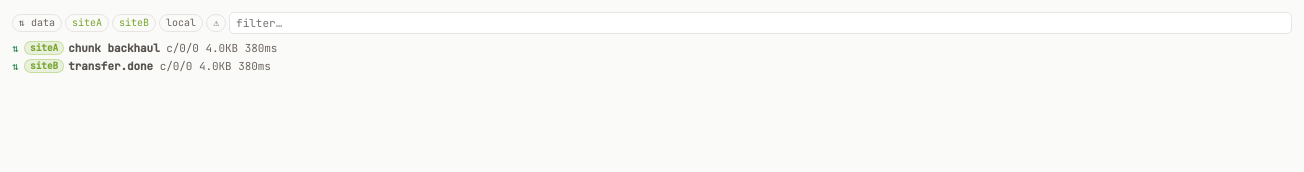
Console rendering › filters by free-text search
This screenshot has width=1304, height=172.
Type "transfer" into the field with placeholder "filter…" at x=761, y=23, box [229,12,1292,34]
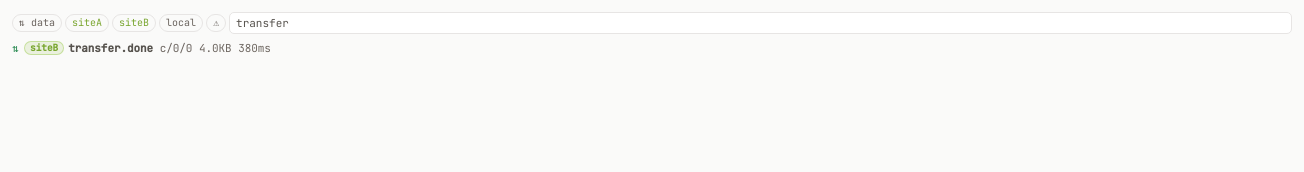
Expected: the text "transfer.done" is shown, [68,41,153,55]
Expected: the text "chunk backhaul" is gone
